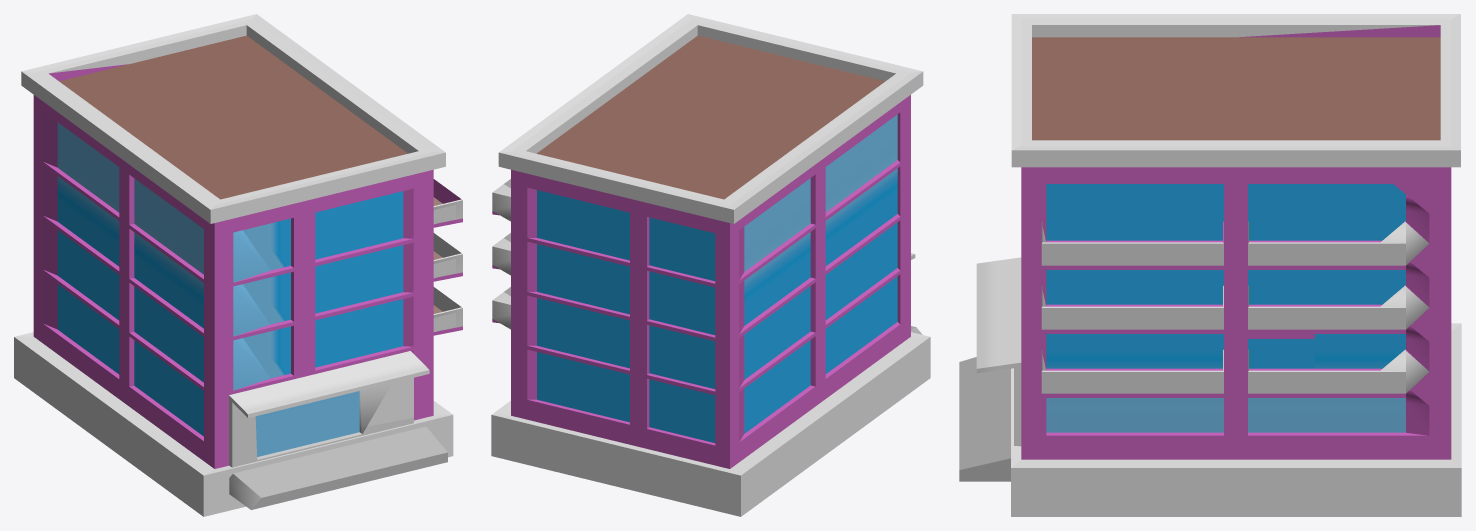
The model's file is PurpleBuilding6x4x6.fbx.
3 views of the same model, side by side, from view 1: azimuth 30°, elevation 25°; view 2: azimuth 150°, elevation 25°; view 3: azimuth 270°, elevation 25° (orthographic). The views are drawn at different scales.
Parts seen in each view (by area): view 1: House; view 2: House; view 3: House.
Part boxes in pixels (x1,y1,x2,y2): House: (14,14,462,516); House: (491,14,930,516); House: (959,14,1461,516).
Bounding box in the file's own units: 5.57 × 5.97 × 7.5.
Materials: 1 (1 with a texture image).
